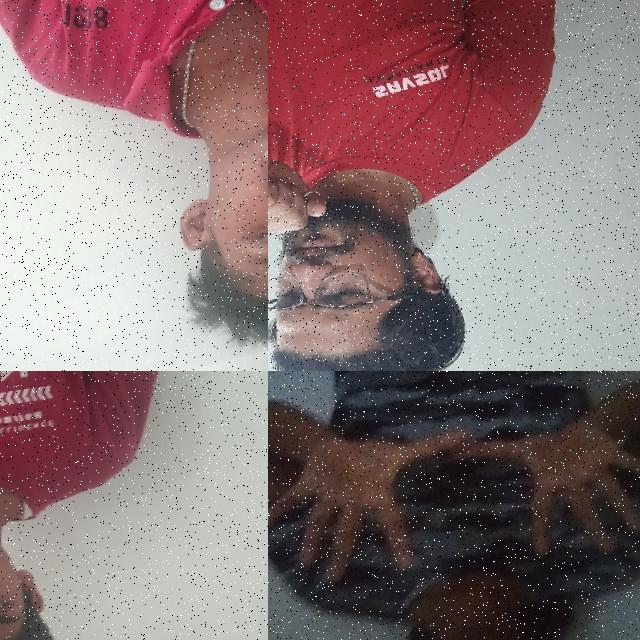Fist Mouth: (268, 82, 464, 371), (132, 46, 268, 371), (0, 420, 71, 640)
Moutza: (268, 406, 488, 593), (448, 400, 640, 579)
